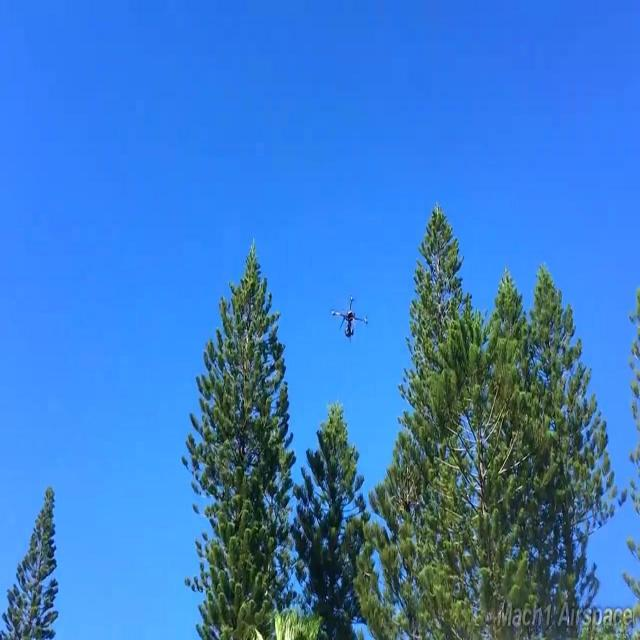UAV: (331, 295, 368, 341)
